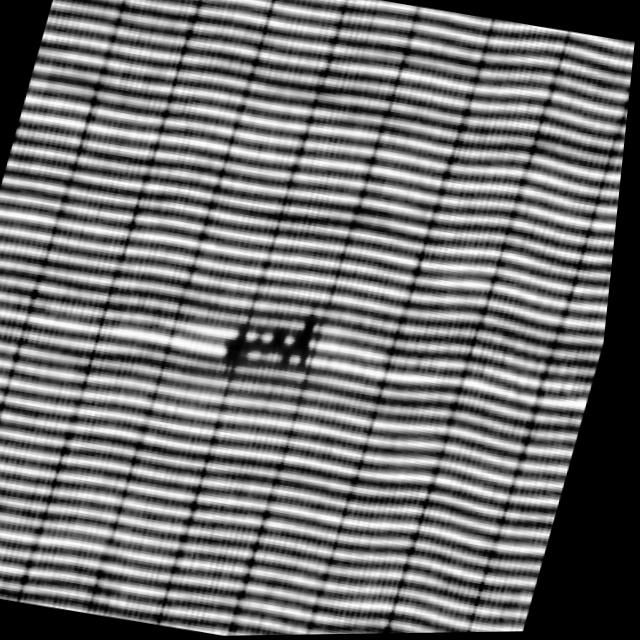Stitch: (192, 277, 348, 416)
